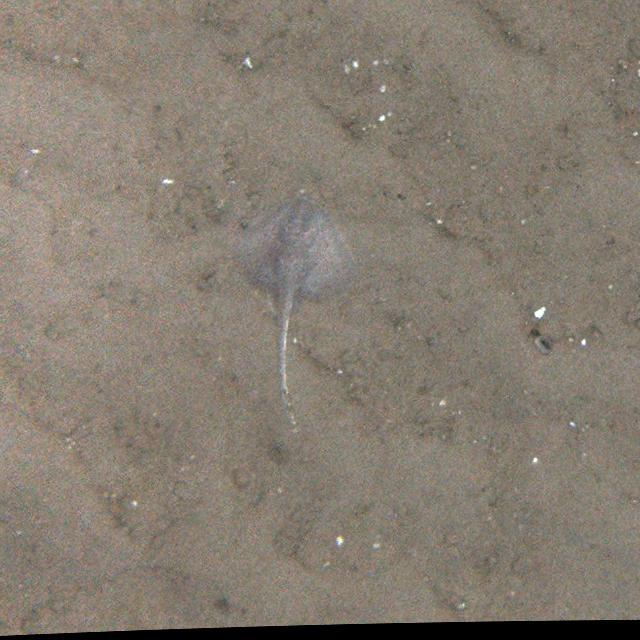skate: (233, 188, 352, 436)
